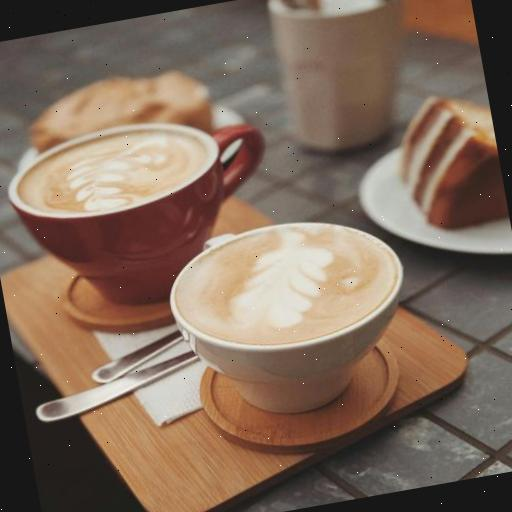cup: (0, 102, 290, 324)
